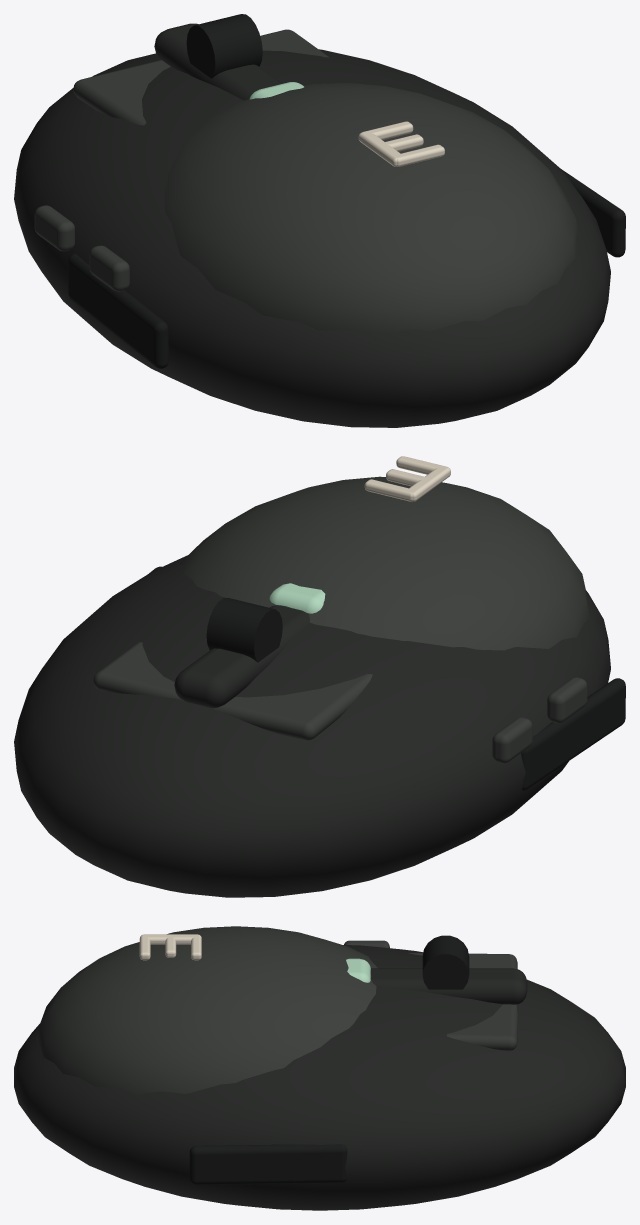
Rendered from gaming-mouse.glb.
3 views of the same model, one above another, from view 1: azimuth 30°, elevation 25°; view 2: azimuth 150°, elevation 25°; view 3: azimuth 270°, elevation 25° (orthographic). The views are drawn at different scales.
Visible parts, largest first — view 1: main-shell, rear-palm-hump, left-side-grip, scroll-wheel, left-click, center-spine, right-side-grip, thumb-button-2, thumb-button-1, right-click, eryu-mark-stem, eryu-mark-bar-3; view 2: main-shell, rear-palm-hump, left-click, left-side-grip, center-spine, scroll-wheel, right-click, thumb-button-2, thumb-button-1, dpi-button-main, eryu-mark-stem, eryu-mark-bar-1; view 3: main-shell, rear-palm-hump, right-side-grip, center-spine, scroll-wheel, right-click, left-click, dpi-button-main, eryu-mark-stem.
Boxes of the visible parts, x1=… form: main-shell: x1=14, y1=49, x2=610, y2=427; rear-palm-hump: x1=164, y1=83, x2=577, y2=334; left-side-grip: x1=68, y1=253, x2=168, y2=368; scroll-wheel: x1=186, y1=14, x2=262, y2=78; left-click: x1=73, y1=60, x2=170, y2=125; center-spine: x1=154, y1=23, x2=282, y2=100; right-side-grip: x1=561, y1=169, x2=625, y2=257; thumb-button-2: x1=89, y1=245, x2=129, y2=291; thumb-button-1: x1=34, y1=205, x2=74, y2=251; right-click: x1=260, y1=29, x2=328, y2=57; eryu-mark-stem: x1=358, y1=131, x2=400, y2=166; eryu-mark-bar-3: x1=395, y1=144, x2=444, y2=166; main-shell: x1=14, y1=555, x2=610, y2=897; rear-palm-hump: x1=179, y1=476, x2=589, y2=650; left-click: x1=213, y1=674, x2=372, y2=740; left-side-grip: x1=521, y1=678, x2=625, y2=790; center-spine: x1=174, y1=605, x2=309, y2=707; scroll-wheel: x1=206, y1=598, x2=282, y2=662; right-click: x1=93, y1=642, x2=183, y2=700; thumb-button-2: x1=547, y1=677, x2=587, y2=723; thumb-button-1: x1=492, y1=717, x2=532, y2=763; dpi-button-main: x1=269, y1=583, x2=325, y2=613; eryu-mark-stem: x1=408, y1=466, x2=450, y2=501; eryu-mark-bar-1: x1=364, y1=479, x2=413, y2=501; main-shell: x1=14, y1=945, x2=625, y2=1210; rear-palm-hump: x1=36, y1=926, x2=377, y2=1093; right-side-grip: x1=189, y1=1144, x2=347, y2=1184; center-spine: x1=370, y1=968, x2=527, y2=1004; scroll-wheel: x1=422, y1=935, x2=469, y2=989; right-click: x1=447, y1=1004, x2=517, y2=1050; left-click: x1=408, y1=953, x2=517, y2=969; dpi-button-main: x1=346, y1=958, x2=370, y2=982; eryu-mark-stem: x1=142, y1=934, x2=199, y2=944.
Bounding box in the file's own units: 0.9474 × 0.545 × 1.31.
